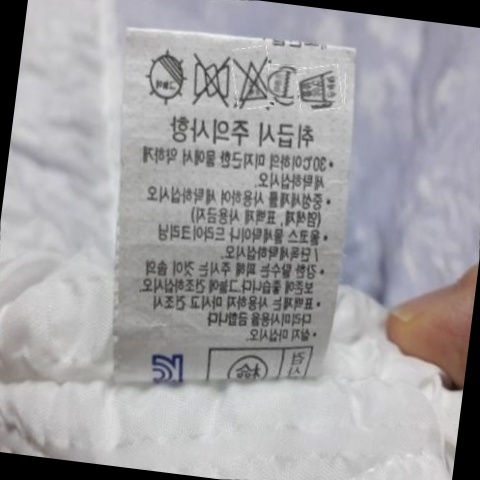DN_wring: (185, 52, 234, 106)
dry_clean: (267, 64, 301, 102)
hand_wash: (294, 62, 343, 109)
non_chlorine_bleach: (232, 53, 273, 107)
shade_dry: (139, 47, 191, 108)
